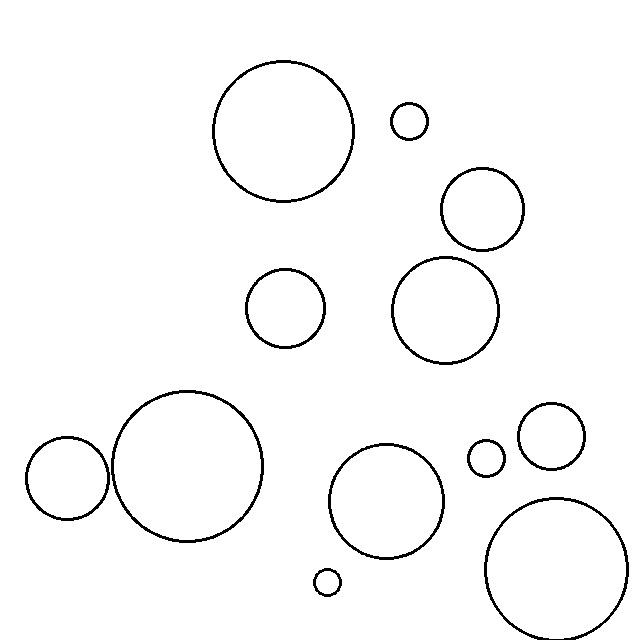circle: (111, 387, 266, 544), (213, 55, 357, 205), (485, 494, 630, 640), (329, 439, 446, 561), (389, 253, 502, 368), (23, 433, 111, 525), (439, 165, 528, 255), (244, 267, 328, 350), (516, 399, 587, 473), (466, 434, 509, 481), (390, 99, 430, 142), (311, 564, 343, 601)
